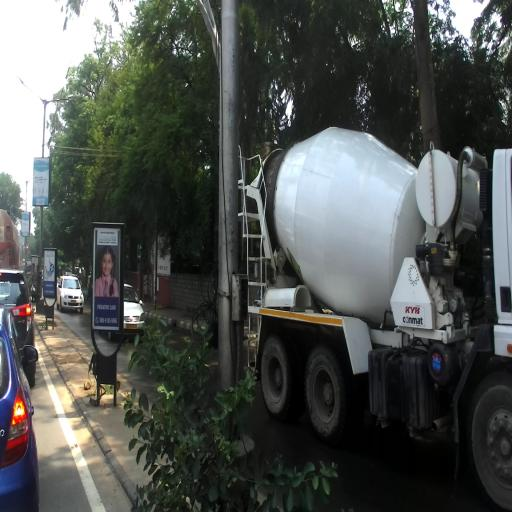street_light_0: (18, 76, 46, 108), (44, 94, 80, 112)
